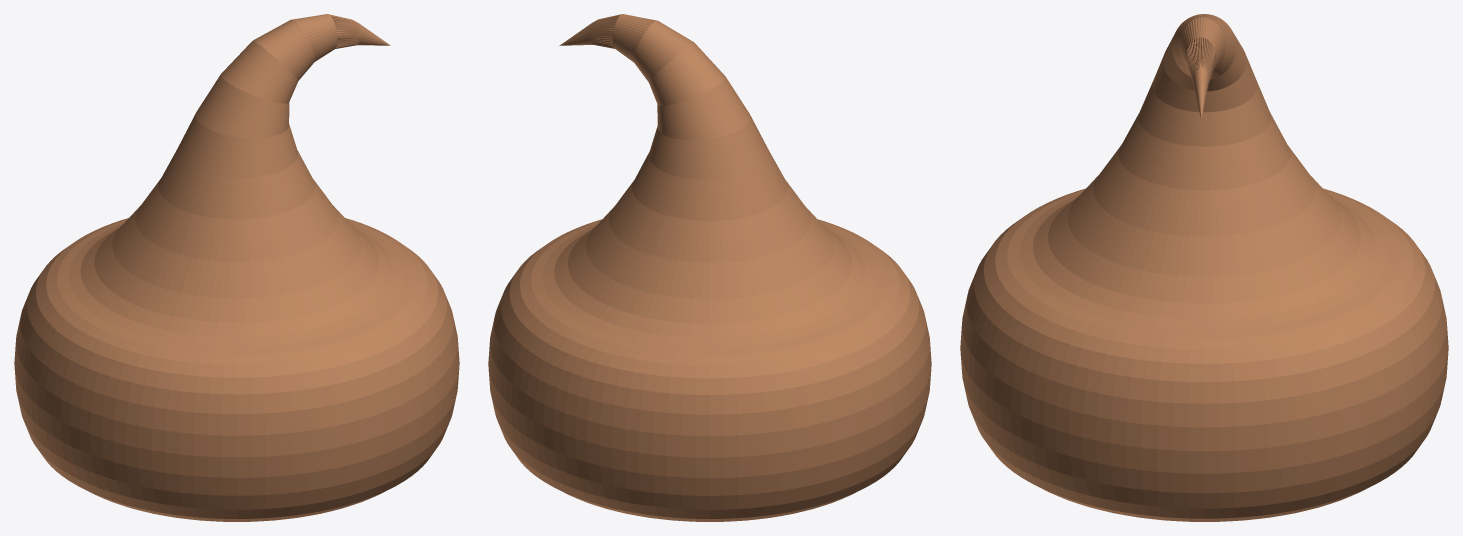
File: head_var_none.glb
3 views of the same model, side by side, from view 1: azimuth 30°, elevation 25°; view 2: azimuth 150°, elevation 25°; view 3: azimuth 270°, elevation 25° (orthographic). The views are drawn at different scales.
Parts seen in each view (by area): view 1: tmp_head_normal_export; view 2: tmp_head_normal_export; view 3: tmp_head_normal_export.
Part boxes in pixels (x1,y1,x2,y2): tmp_head_normal_export: (14,14,459,521); tmp_head_normal_export: (488,14,931,521); tmp_head_normal_export: (960,14,1448,521).
Bounding box in the file's own units: 1.07 × 1.1 × 1.07.
